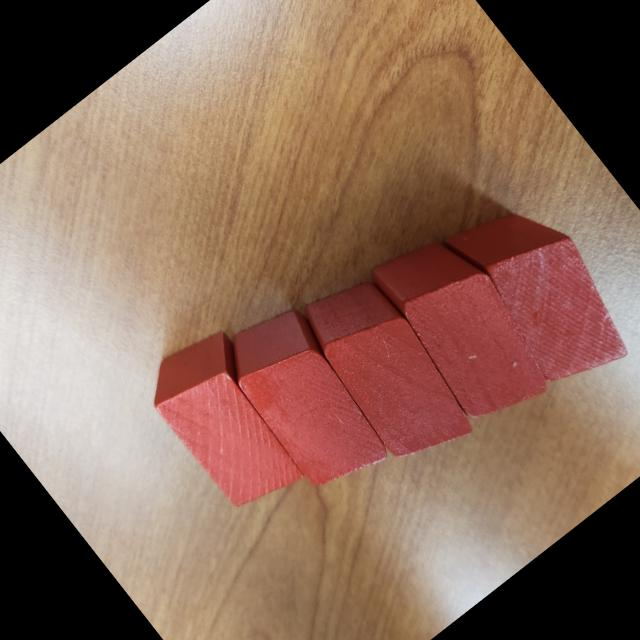red: (362, 217, 568, 440), (440, 180, 640, 406), (286, 260, 489, 481), (210, 292, 410, 508), (134, 318, 326, 524)
